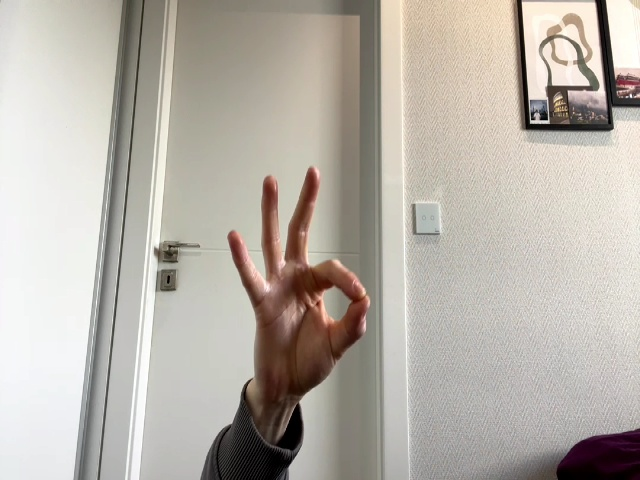O: (228, 167, 370, 401)
